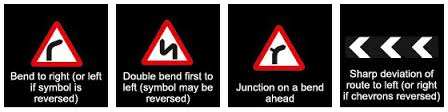Double_bend_left: (134, 14, 202, 69)
